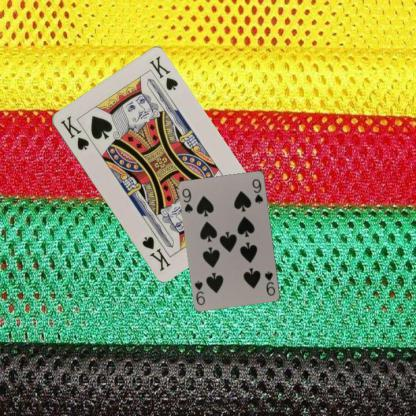9s: (262, 269, 277, 297), (180, 186, 194, 214)
Ks: (57, 113, 90, 151)
